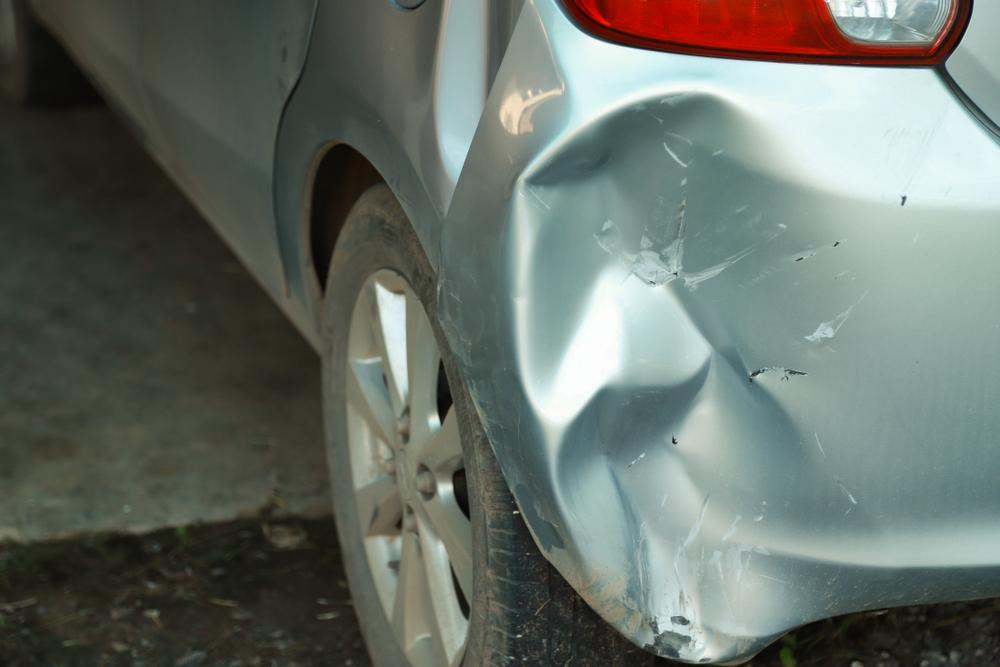dent: (510, 88, 898, 662)
